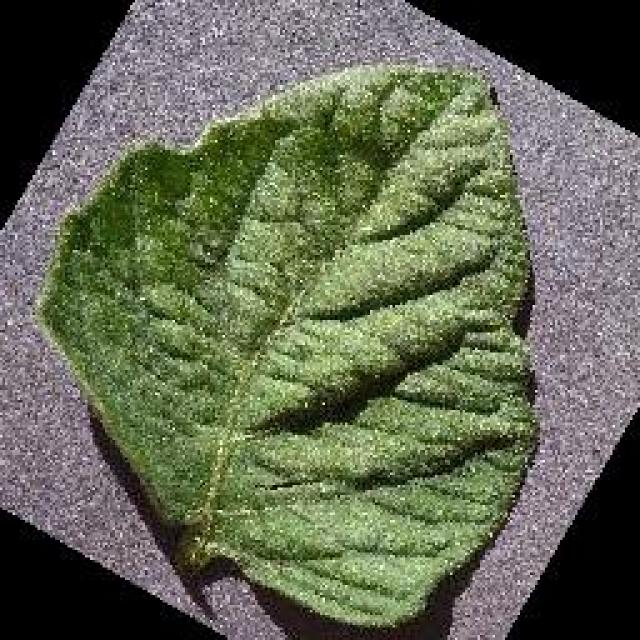Tomato___healthy: (31, 60, 544, 626)
